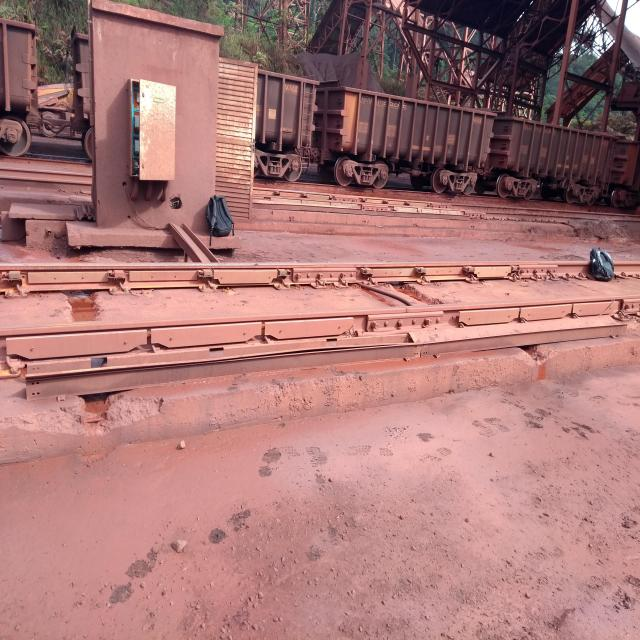gondola: (319, 64, 496, 202), (492, 111, 622, 205), (256, 22, 321, 192), (0, 9, 49, 171)
